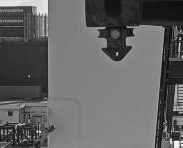Copy of Copy of twist_lock_2: (92, 22, 137, 65)
